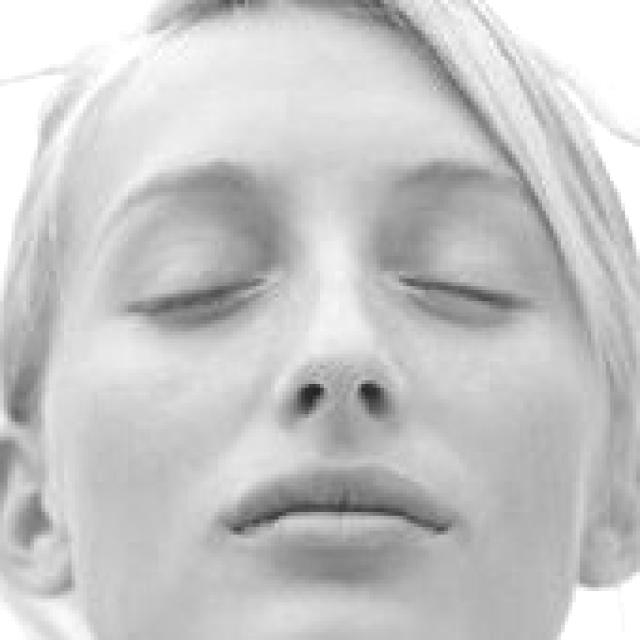real: (68, 27, 608, 608), (104, 234, 542, 338)
